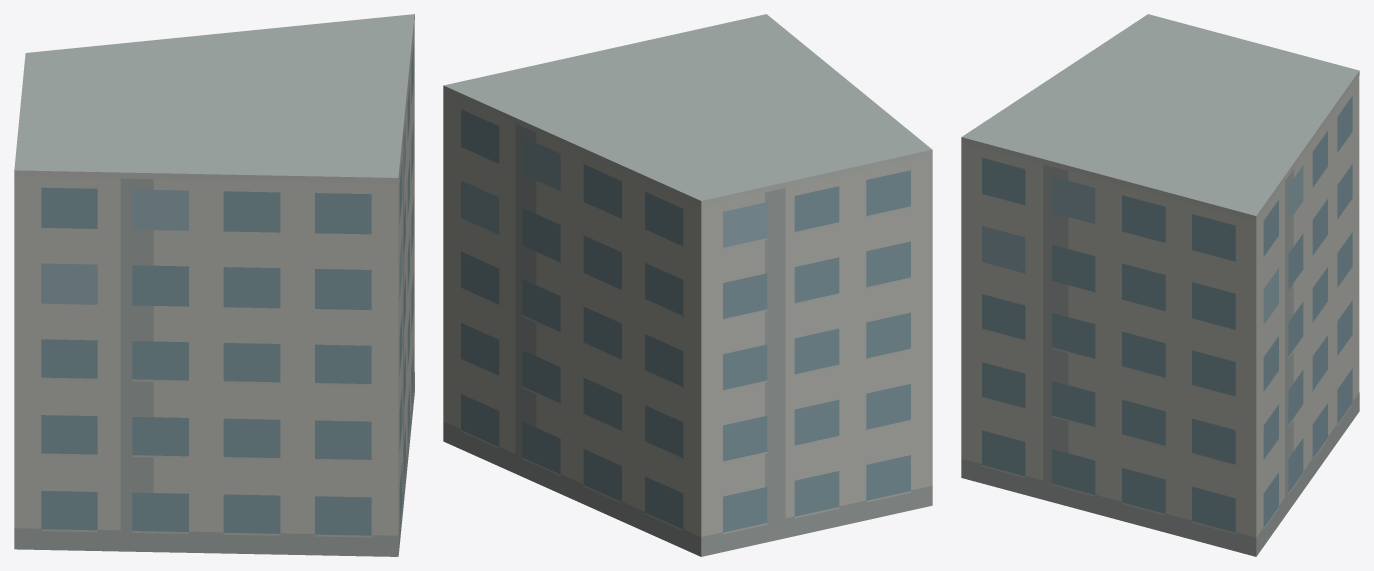
Rendered from residential-224d56ec-36bd-4848-929f-c7f3e76bd171.glb.
3 renders of one model, left to right at view 1: azimuth 30°, elevation 25°; view 2: azimuth 150°, elevation 25°; view 3: azimuth 270°, elevation 25°, orthographic. The views are drawn at different scales.
Parts seen in each view (by area): view 1: residential-224d56ec-36bd-4848-929f-c7f3e76bd171.tmp; view 2: residential-224d56ec-36bd-4848-929f-c7f3e76bd171.tmp; view 3: residential-224d56ec-36bd-4848-929f-c7f3e76bd171.tmp.
Boxes of the visible parts, x1,y1,x2,y2 form: residential-224d56ec-36bd-4848-929f-c7f3e76bd171.tmp: (14,14,414,556); residential-224d56ec-36bd-4848-929f-c7f3e76bd171.tmp: (443,14,932,556); residential-224d56ec-36bd-4848-929f-c7f3e76bd171.tmp: (961,14,1359,556).
Size of the model in its own units: 19.4 by 15.25 by 16.15.
